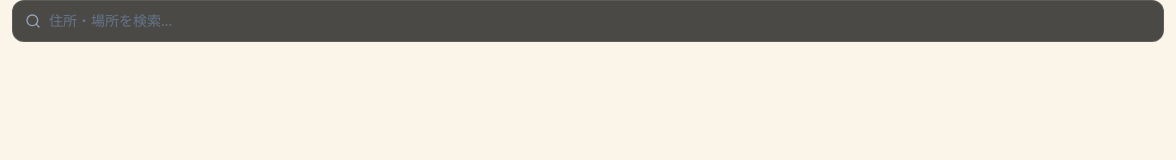
Test case: AddressSearch › 座標不正な候補はドロップダウンに表示しない
Type "tokyo" into the field with placeholder "住所・場所を検索..." at (600, 21), box [49, 11, 1151, 31]
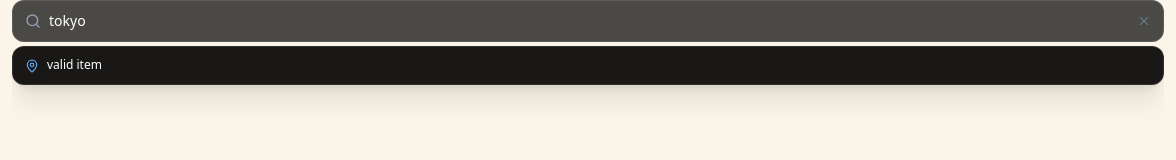
Expected: the text "valid item" is shown, [47, 57, 102, 74]
